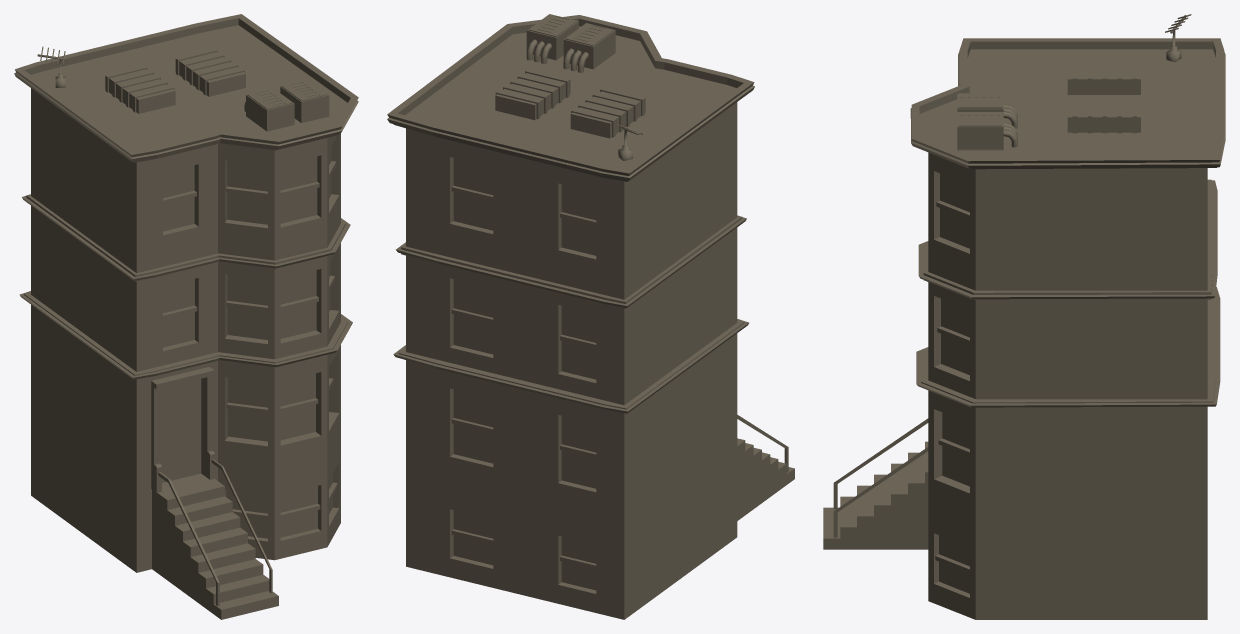
The model's file is Corner Building_1.fbx.
3 renders of one model, left to right at view 1: azimuth 30°, elevation 25°; view 2: azimuth 150°, elevation 25°; view 3: azimuth 270°, elevation 25°, orthographic. The views are drawn at different scales.
Visible parts, largest first — view 1: Cube.018; view 2: Cube.018; view 3: Cube.018.
Boxes of the visible parts, x1,y1,x2,y2 form: Cube.018: [14, 14, 358, 619]; Cube.018: [387, 14, 794, 619]; Cube.018: [823, 14, 1225, 619].
Size of the model in its own units: 468 by 884 by 646.
